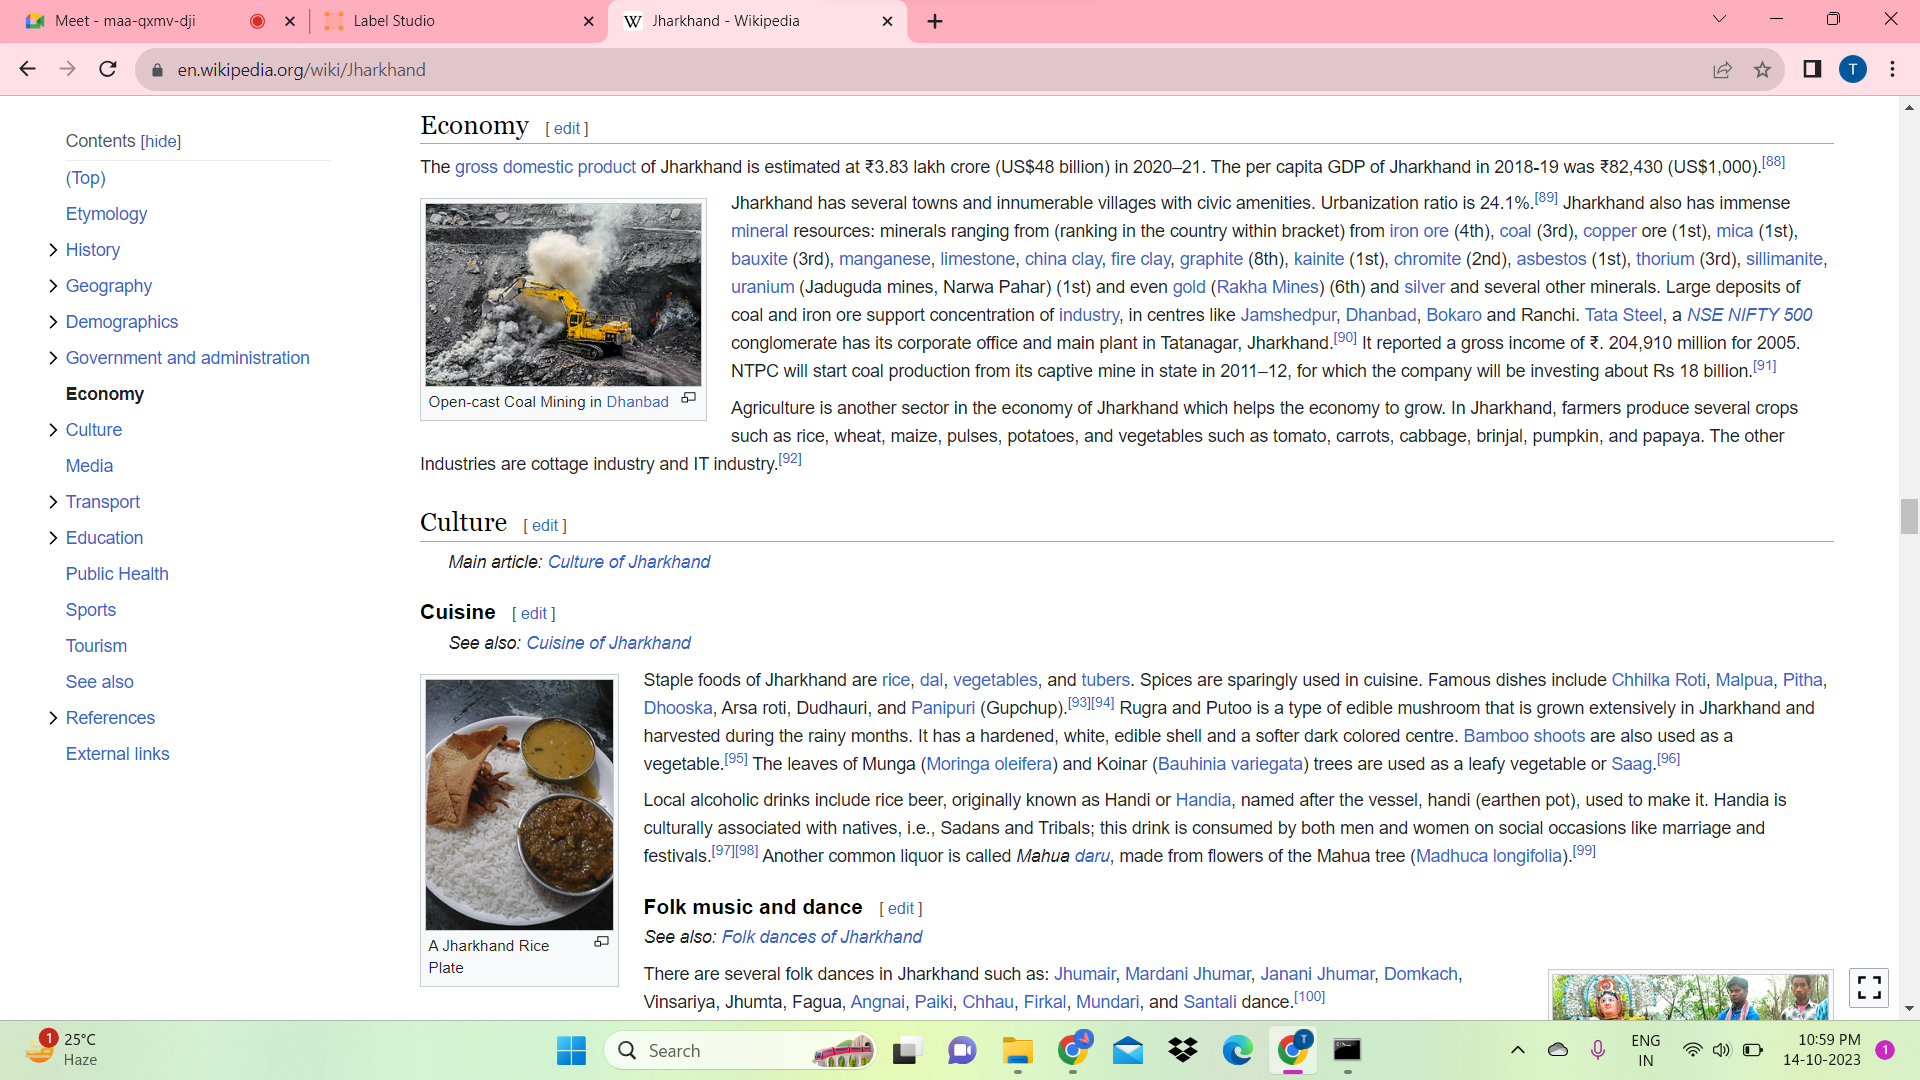Image: (421, 194, 703, 388), (418, 671, 617, 926)
Paragraph: (417, 146, 1822, 492), (638, 661, 1838, 873), (644, 963, 1473, 1014), (57, 123, 252, 336), (61, 556, 240, 766), (394, 496, 742, 583), (406, 584, 709, 658), (51, 340, 352, 404), (645, 891, 939, 953), (58, 417, 181, 549), (411, 109, 543, 142)
